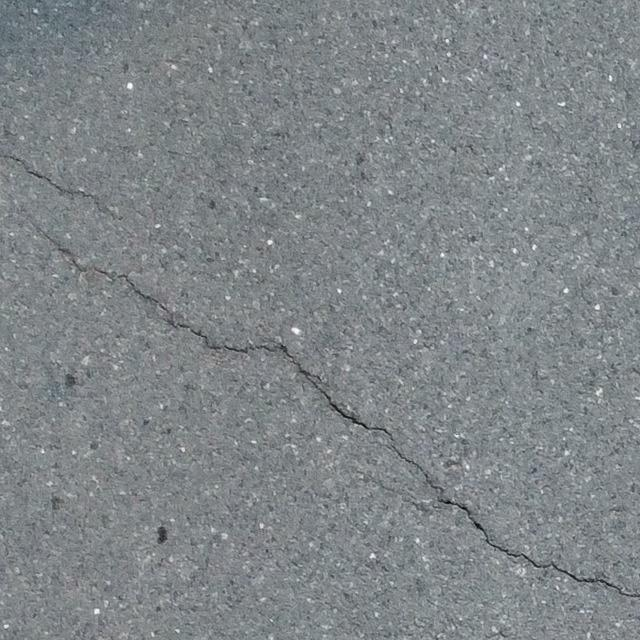TransverseCrack: (36, 224, 640, 597), (2, 155, 114, 216)
